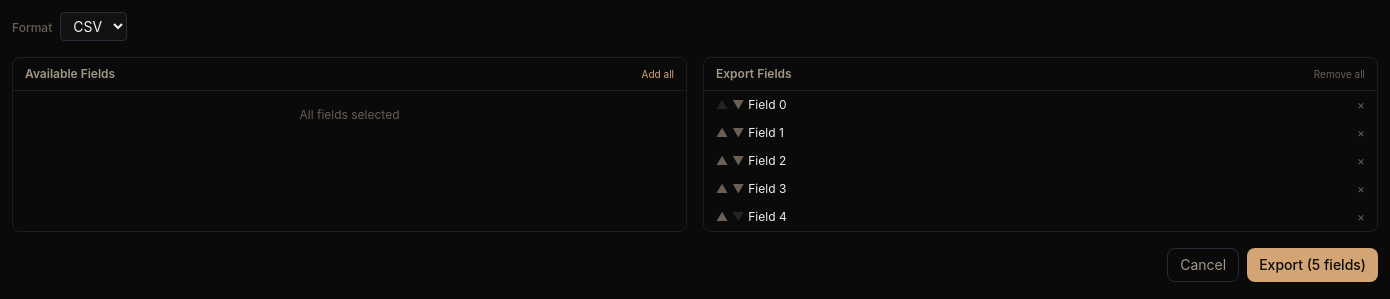
Scenario: ExportDialog › export button is disabled when no fields selected
Click "Remove all" to deselect everything
Click the button "Remove all": (1339, 74) [1314,66,1365,82]
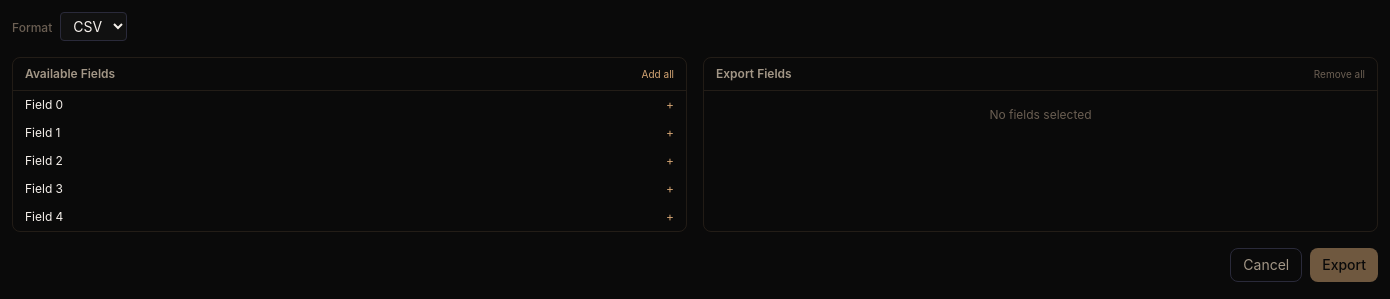
expect the button "Export" is disabled: met, box [1310,248,1378,282]
